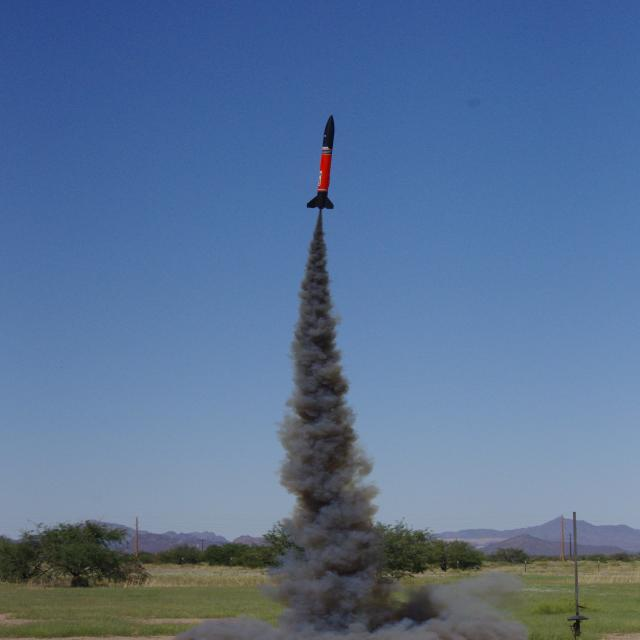Rocket: (305, 113, 339, 210)
